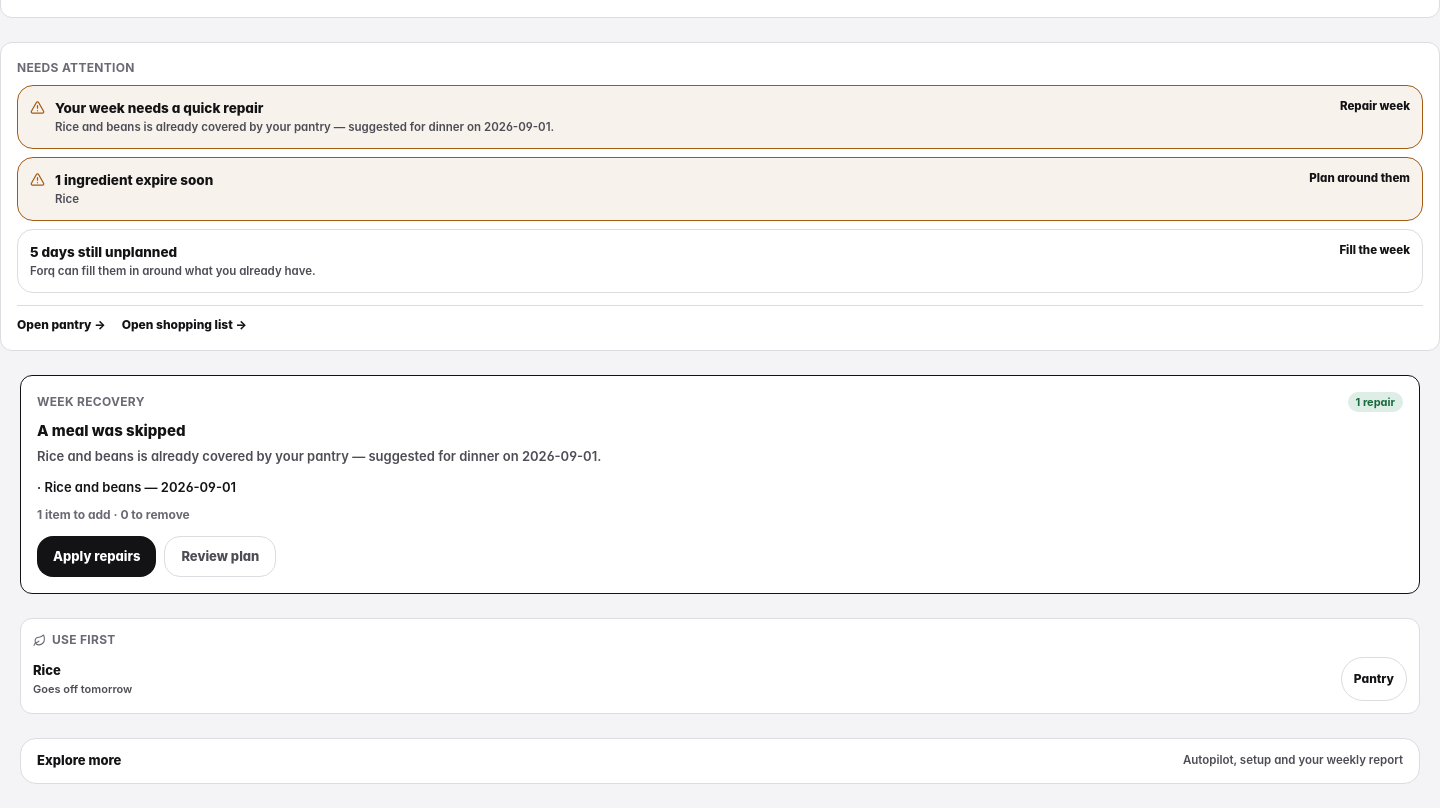
Test: Home week recovery preview › applies all repairs as one command and offers undo
(page scrolled)
Click the button "Apply repairs" at [97, 557], box [37,536,156,577]
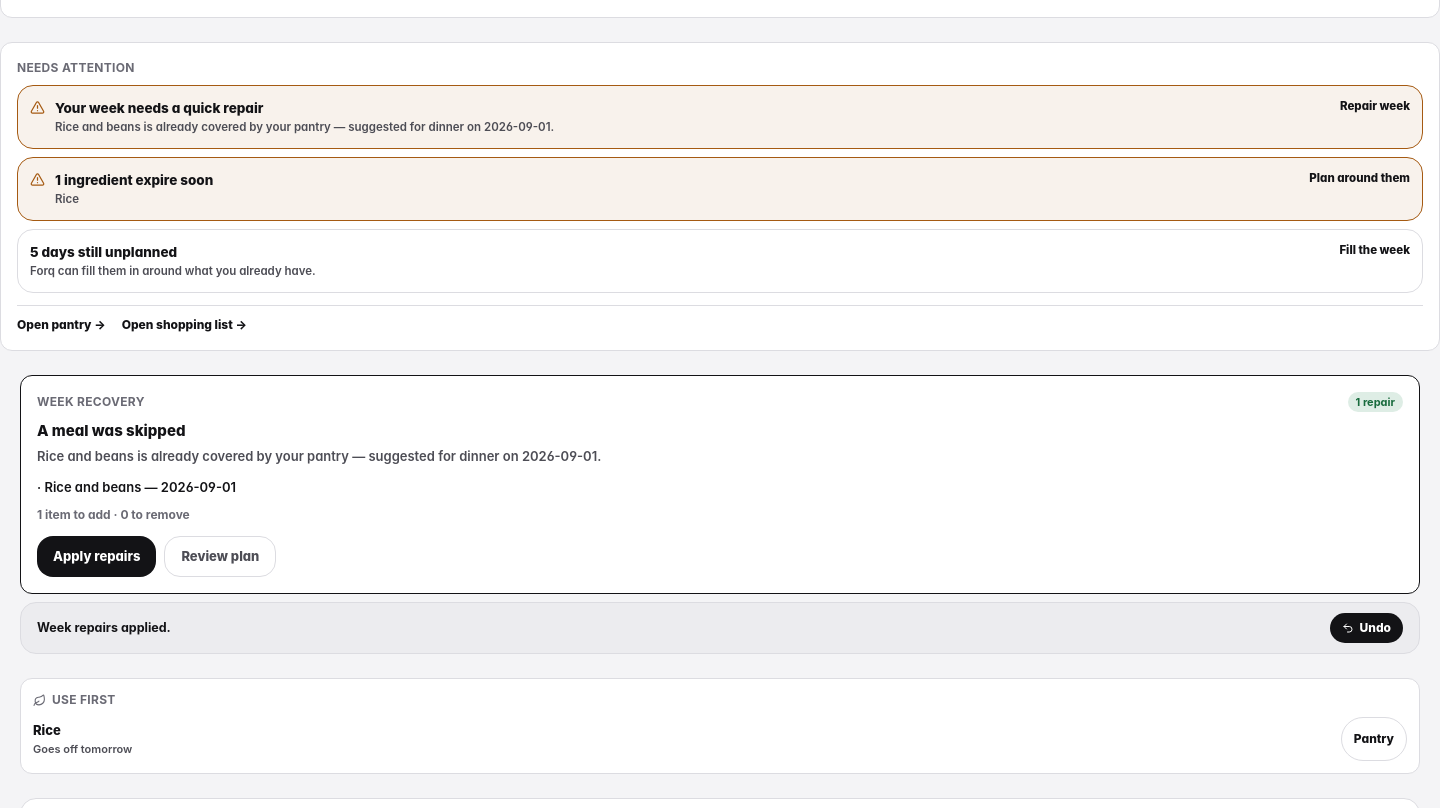
Expected: the text "Week repairs applied." is shown, [37,619,171,638]
Click the button "Undo" at [1366, 628], box [1330,613,1403,643]
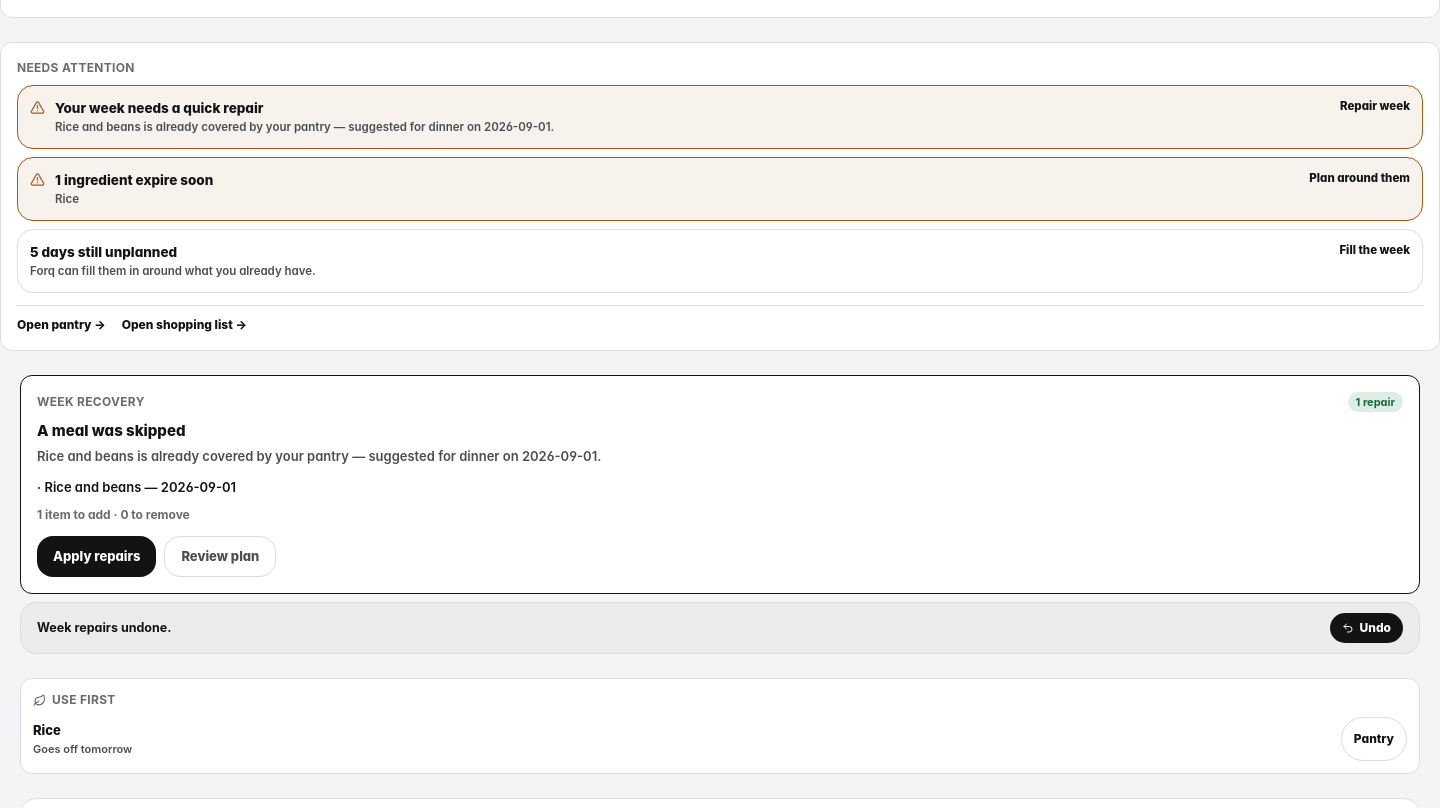
Expected: the text "Week repairs undone." is shown, [37,619,171,638]
